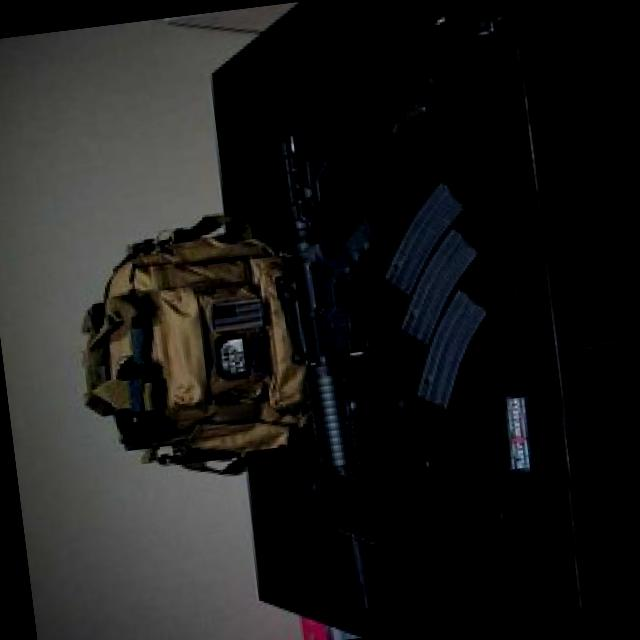long weapon: (251, 104, 427, 620)
